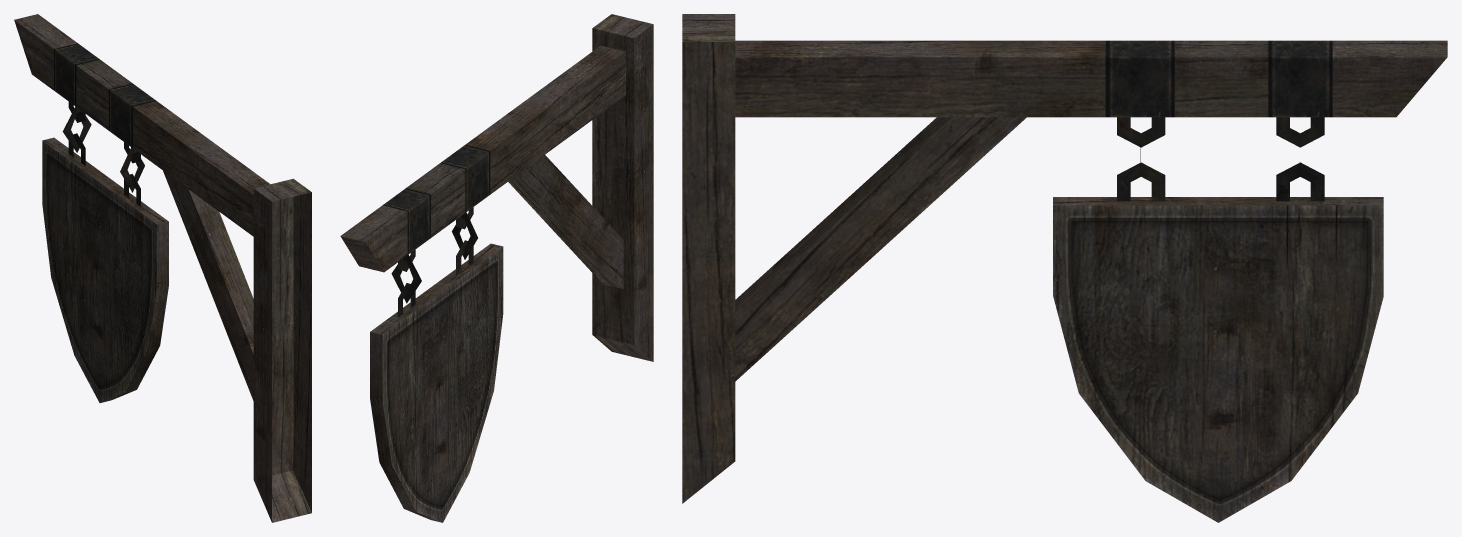
File: Signboard1B_LOD1.fbx
3 views of the same model, side by side, from view 1: azimuth 30°, elevation 25°; view 2: azimuth 150°, elevation 25°; view 3: azimuth 270°, elevation 25° (orthographic). The views are drawn at different scales.
Visible parts, largest first — view 1: polySurface185; view 2: polySurface185; view 3: polySurface185.
Boxes of the visible parts, x1,y1,x2,y2 form: polySurface185: [14, 14, 311, 522]; polySurface185: [340, 14, 653, 522]; polySurface185: [682, 14, 1447, 522].
Size of the model in its own units: 0.843 by 6.9 by 9.75.
